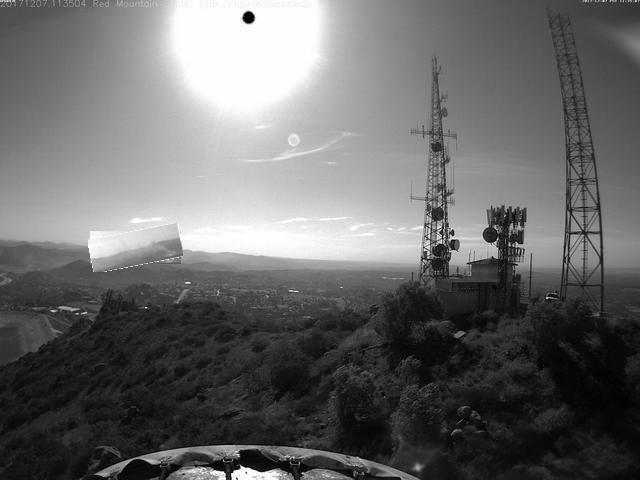smoke: (90, 228, 184, 270)
